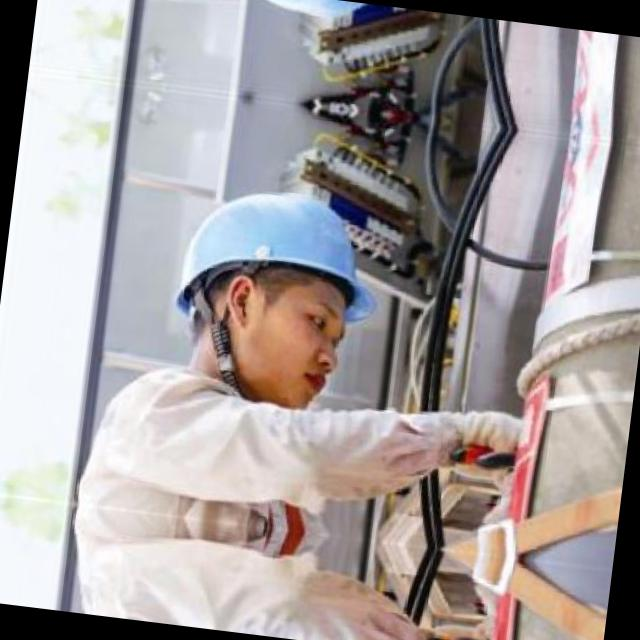helmet: (144, 154, 396, 428)
